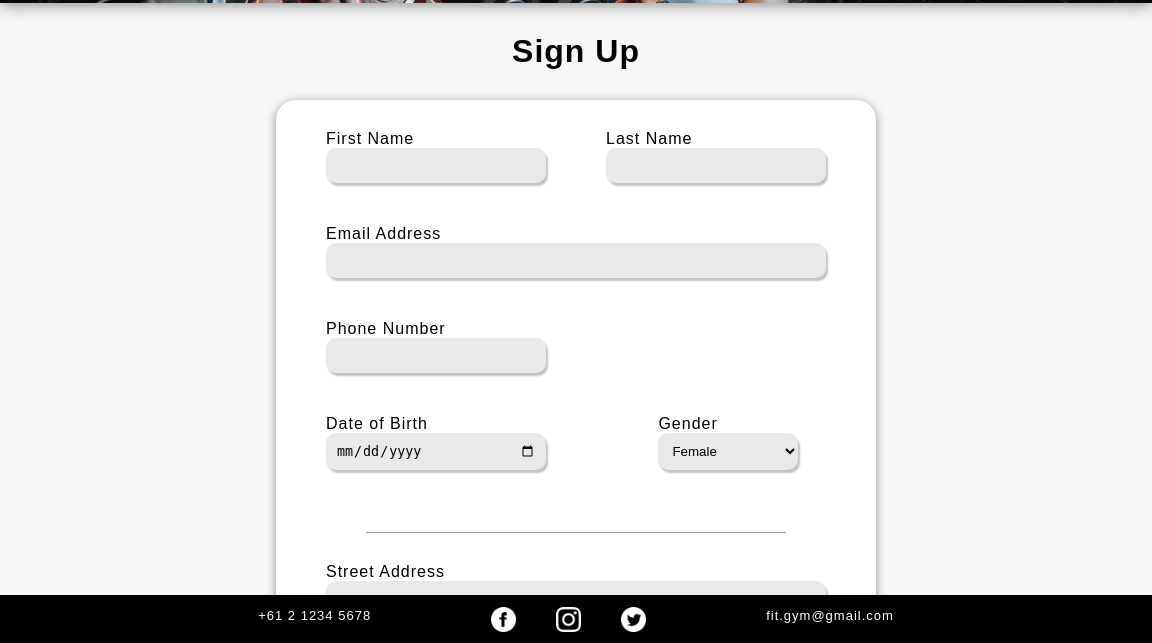
Ensures sign up form inputs meet minimum requirements › Displays error if phone number, cvv and card number fields contain non-numeric characters.
The image size is (1152, 643).
Type "041234a678" into the field labelled "Phone Number". click: (436, 356)
box: [326,338,546,373]
(page scrolled)
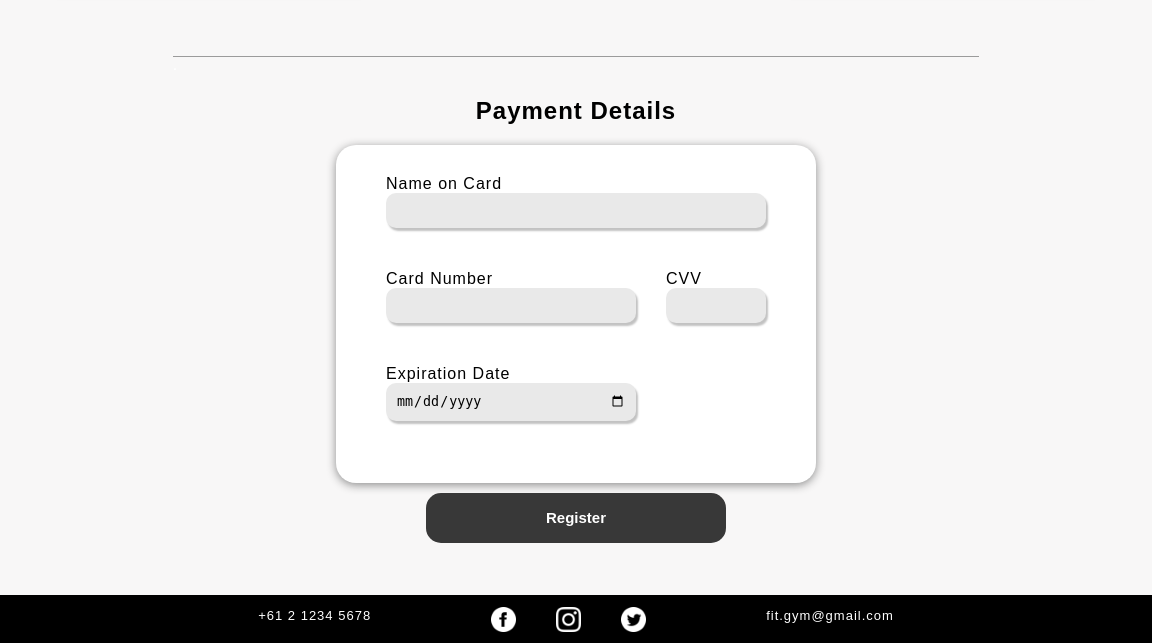
Type "123456m890123456" into the field labelled "Card Number". click: (511, 306)
box: [386,288,636,323]
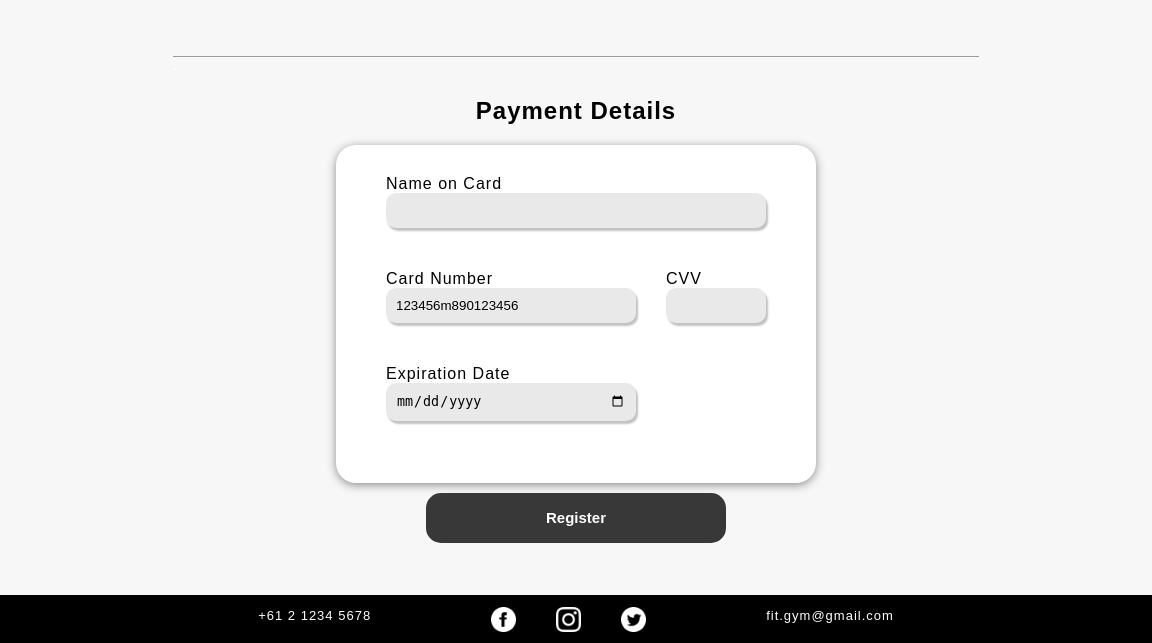
Type "1o3" into the password field labelled "CVV". click: (716, 306)
box: [666,288,766,323]
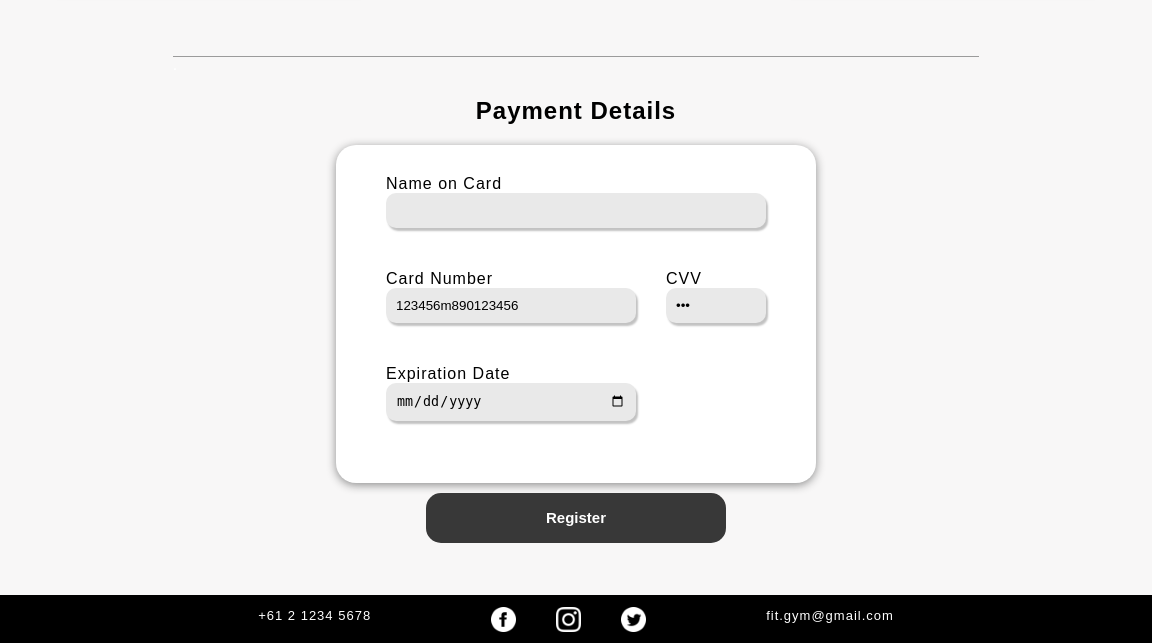
Click the button "Register". click: (576, 518)
box: [426,493,726,543]
(page scrolled)
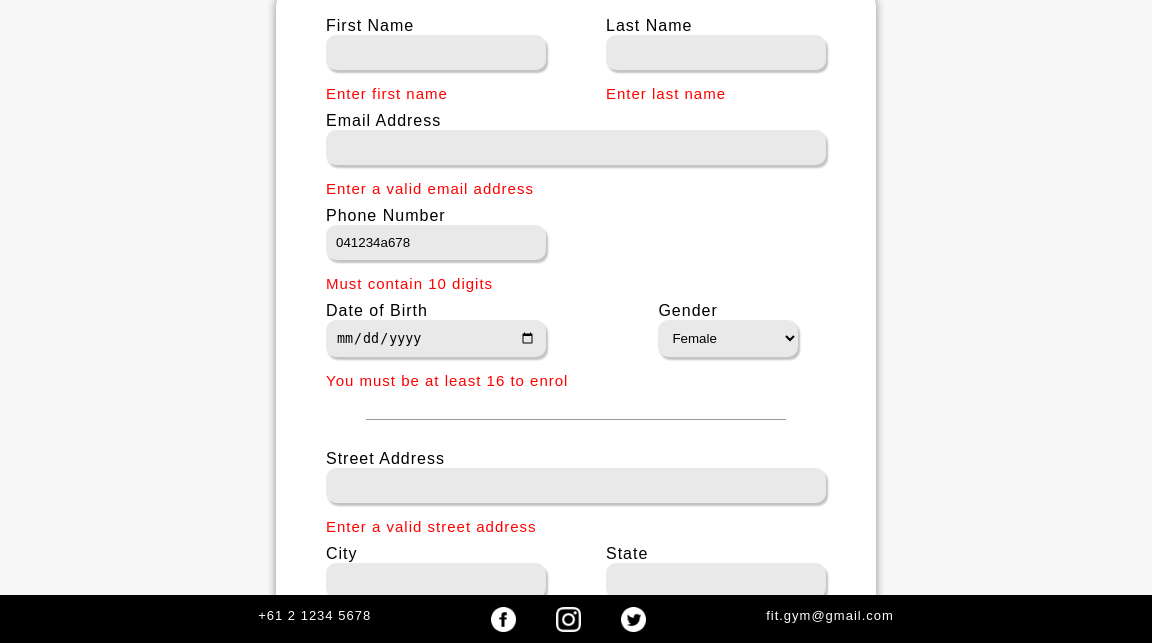
Check: the text "Must contain 10 digits" is shown, box [326,275,493,292]
